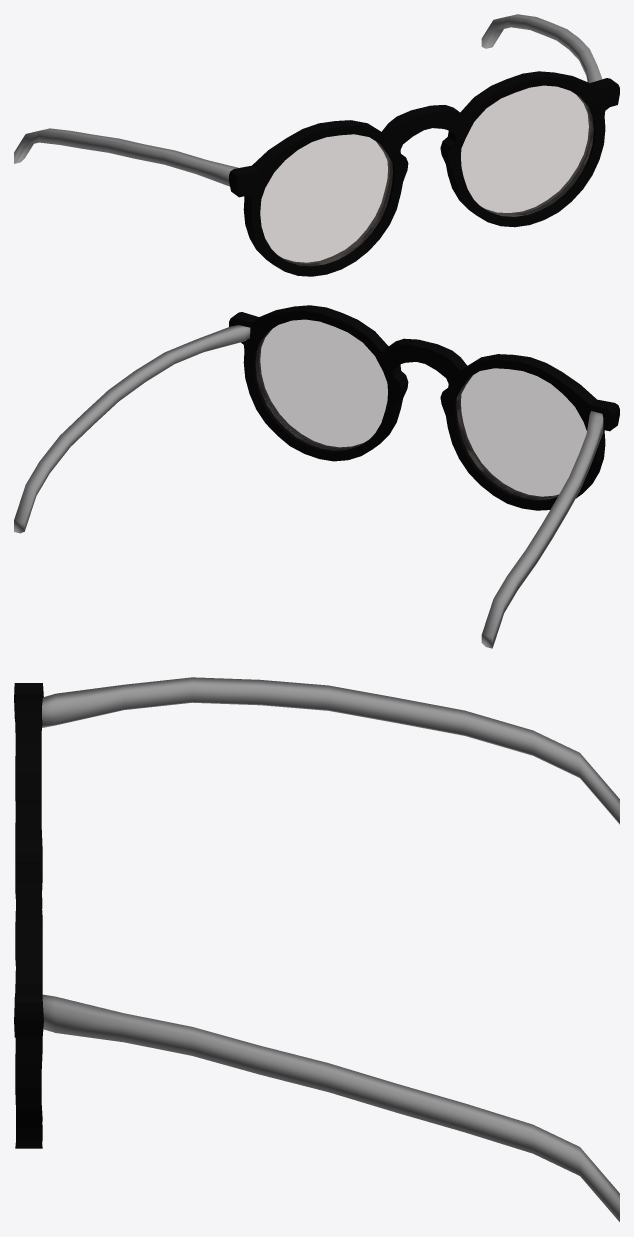
The picture shows the model from 3 angles, top to bottom: view 1: azimuth 30°, elevation 25°; view 2: azimuth 150°, elevation 25°; view 3: azimuth 270°, elevation 25°; orthographic projection. The views are drawn at different scales.
Visible parts, largest first — view 1: glassesOval; view 2: glassesOval; view 3: glassesOval.
Boxes of the visible parts, left/top/right/bottom form: glassesOval: left=14, top=14, right=619, bottom=276; glassesOval: left=14, top=305, right=619, bottom=648; glassesOval: left=14, top=677, right=619, bottom=1221.
Size of the model in its own units: 0.4451 by 0.1298 by 0.2827.
Materials: 3 (2 with a texture image).
